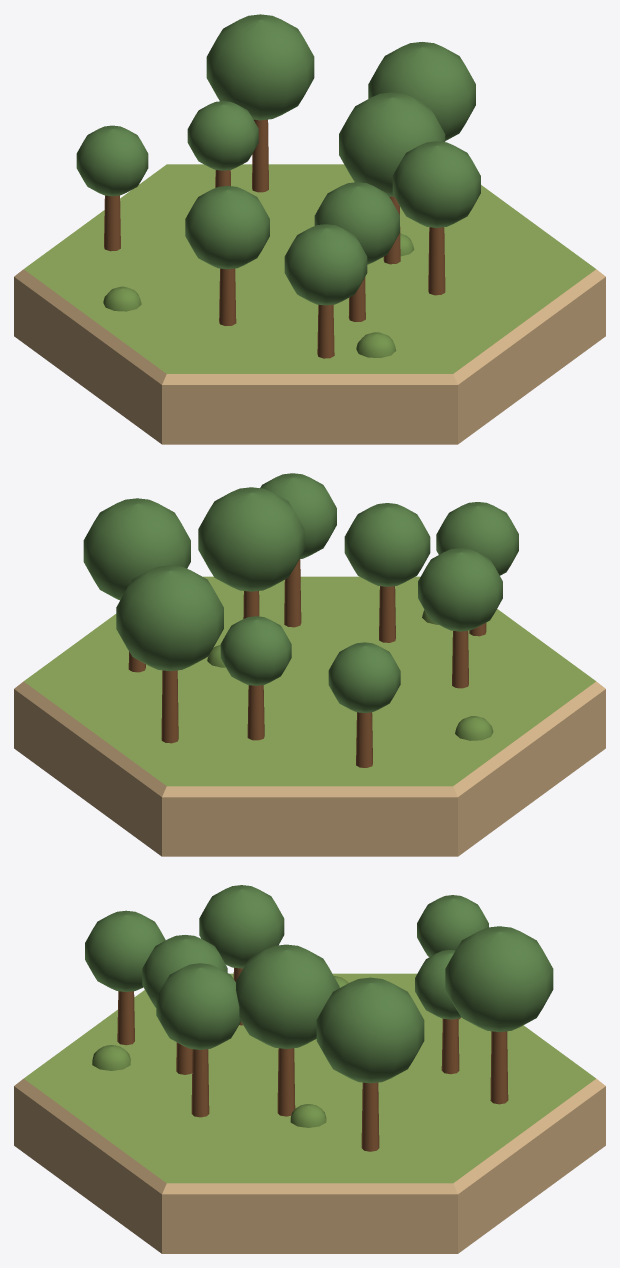
The model's file is tile_woods_2.fbx.
3 views of the same model, one above another, from view 1: azimuth 30°, elevation 25°; view 2: azimuth 150°, elevation 25°; view 3: azimuth 270°, elevation 25° (orthographic).
Parts seen in each view (by area): view 1: tile_woods_2; view 2: tile_woods_2; view 3: tile_woods_2.
Part boxes in pixels (bbox=[...]): tile_woods_2: bbox=[14, 14, 605, 444]; tile_woods_2: bbox=[14, 473, 605, 856]; tile_woods_2: bbox=[14, 885, 605, 1253].
Bounding box in the file's own units: 1.73 × 0.88 × 2.
